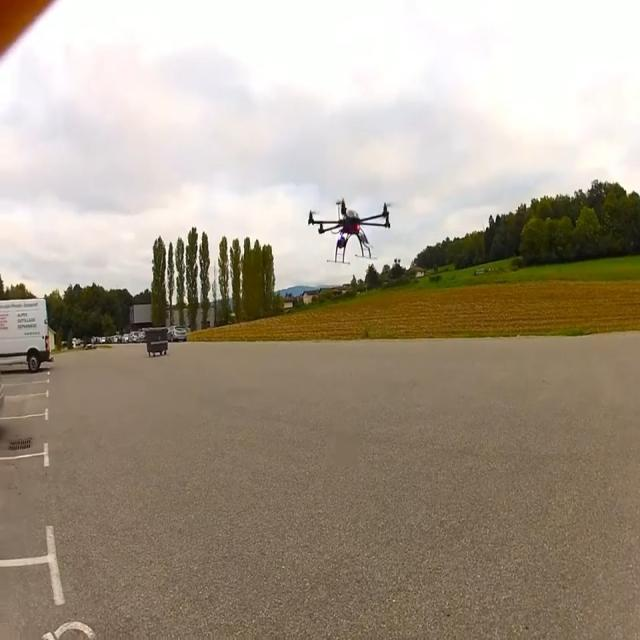drone: (306, 197, 391, 263)
